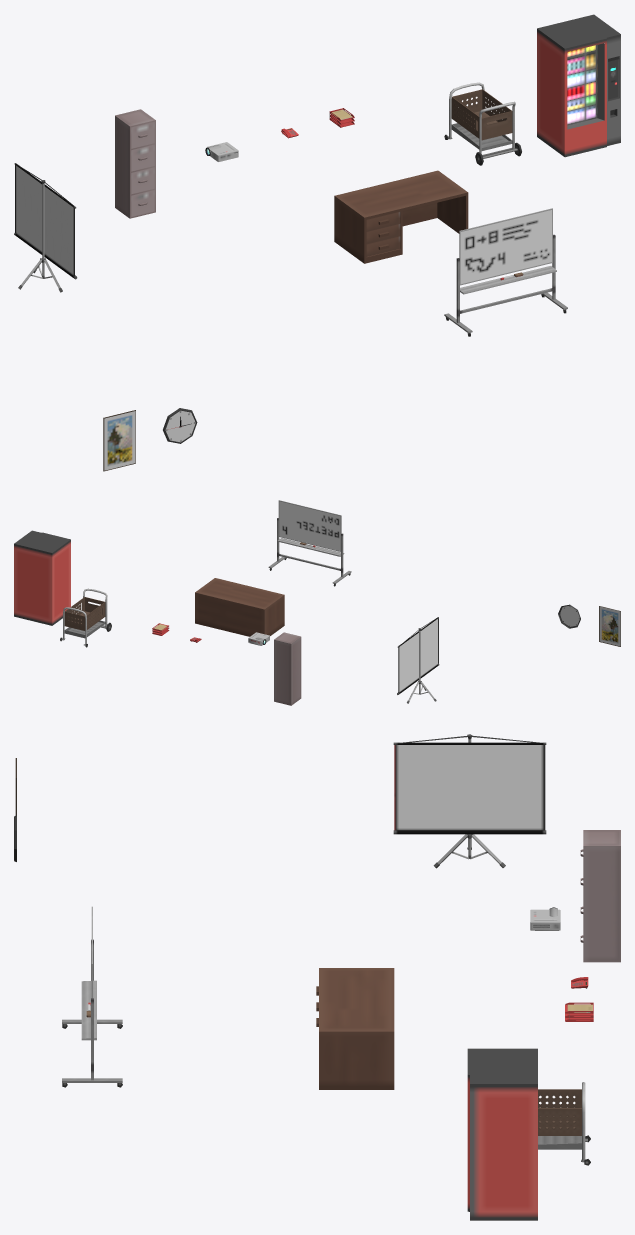
Rendered from DeathFloor_NewDecorModelsPack.fbx.
3 views of the same model, one above another, from view 1: azimuth 30°, elevation 25°; view 2: azimuth 150°, elevation 25°; view 3: azimuth 270°, elevation 25° (orthographic). The views are drawn at different scales.
Visible parts, largest first — view 1: VendingMachine, CocoboDesk, Whiteboard.Board, ProjectorScreen, FileCart, FileBox, Whiteboard, Painting, Clock; view 2: VendingMachine, CocoboDesk, Whiteboard.Board, ProjectorScreen, FileBox, FileCart, Whiteboard, Painting, Clock; view 3: ProjectorScreen, VendingMachine, CocoboDesk, FileBox, FileCart, Whiteboard, Projector.
Part boxes in pixels (<box>): VendingMachine: <box>537,14,620,157</box>; CocoboDesk: <box>334,170,468,263</box>; Whiteboard.Board: <box>459,208,552,285</box>; ProjectorScreen: <box>14,163,77,292</box>; FileCart: <box>448,82,517,158</box>; FileBox: <box>115,109,155,218</box>; Whiteboard: <box>444,234,567,336</box>; Painting: <box>103,410,135,471</box>; Clock: <box>163,408,197,443</box>; VendingMachine: <box>14,530,70,625</box>; CocoboDesk: <box>195,578,284,636</box>; Whiteboard.Board: <box>278,500,341,551</box>; ProjectorScreen: <box>397,617,439,703</box>; FileBox: <box>274,632,301,705</box>; FileCart: <box>61,588,107,645</box>; Whiteboard: <box>268,518,351,586</box>; Painting: <box>599,606,620,646</box>; Clock: <box>558,604,580,628</box>; ProjectorScreen: <box>393,734,546,868</box>; VendingMachine: <box>467,1048,537,1220</box>; CocoboDesk: <box>319,968,394,1089</box>; FileBox: <box>583,830,620,962</box>; FileCart: <box>538,1082,587,1162</box>; Whiteboard: <box>62,939,122,1087</box>; Projector: <box>530,907,560,930</box>.
Size of the model in its own units: 13.44 by 2.49 by 8.04.
